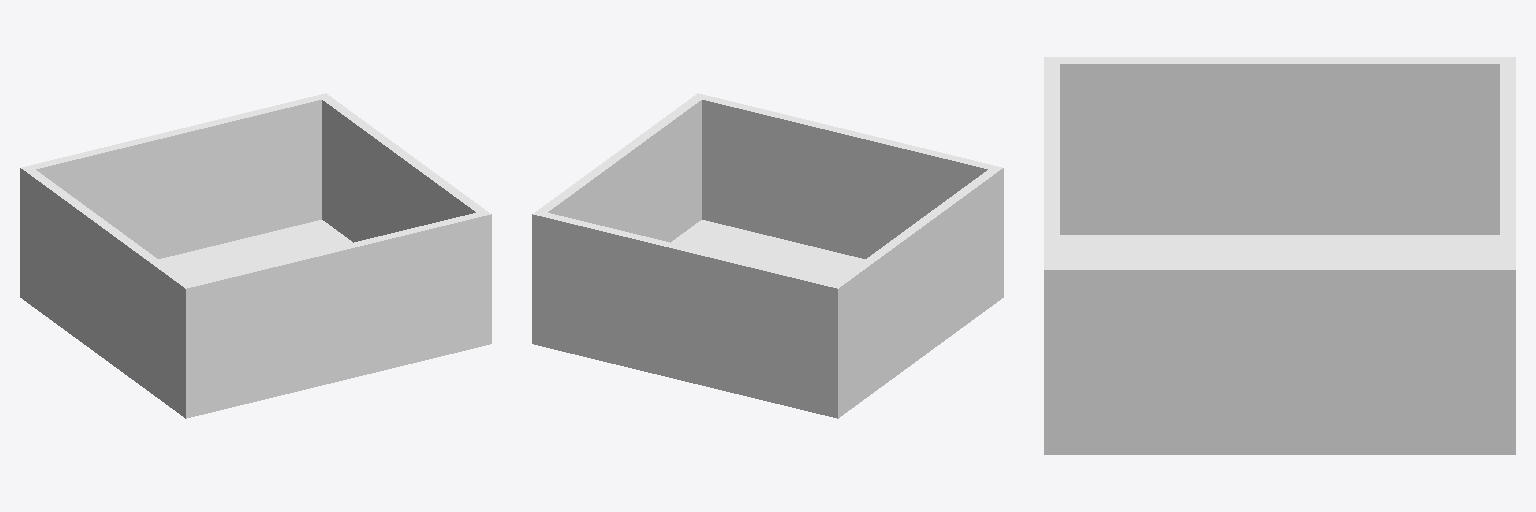
robot.urdf — custom_bin:
<?xml version='1.0' encoding='UTF-8'?>
<robot name="custom_bin">
  <link name="base_link">
    <inertial>
      <origin xyz="0.0000E+00 0.0000E+00 1.7000E-01" rpy="0.0000E+00 0.0000E+00 0.0000E+00"/>
      <mass value="1.0000E+00"/>
      <inertia ixx="9.9730E-02" ixy="-0.0000E+00" ixz="-0.0000E+00" iyy="1.0958E-01" iyz="-0.0000E+00" izz="1.8325E-01"/>
    </inertial>
    <visual>
      <origin xyz="0.0000E+00 0.0000E+00 0.0000E+00" rpy="0.0000E+00 0.0000E+00 0.0000E+00"/>
      <geometry>
        <mesh filename="2654091ea3c01b9772f0f36184b864da.stl" scale="1.0000E+00 1.0000E+00 1.0000E+00"/>
      </geometry>
      <material name="undefined">
        <color rgba="1.0000E+00 1.0000E+00 1.0000E+00 1.0000E+00"/>
      </material>
    </visual>
    <collision>
      <origin xyz="0.0000E+00 0.0000E+00 -2.5000E-02" rpy="0.0000E+00 0.0000E+00 0.0000E+00"/>
      <geometry>
        <box size="1.6000E+00 1.5000E+00 5.0000E-02"/>
      </geometry>
    </collision>
    <collision>
      <origin xyz="7.7500E-01 0.0000E+00 2.7500E-01" rpy="0.0000E+00 0.0000E+00 0.0000E+00"/>
      <geometry>
        <box size="5.0000E-02 1.5000E+00 6.5000E-01"/>
      </geometry>
    </collision>
    <collision>
      <origin xyz="-7.7500E-01 0.0000E+00 2.7500E-01" rpy="0.0000E+00 0.0000E+00 0.0000E+00"/>
      <geometry>
        <box size="5.0000E-02 1.5000E+00 6.5000E-01"/>
      </geometry>
    </collision>
    <collision>
      <origin xyz="0.0000E+00 7.2500E-01 2.7500E-01" rpy="0.0000E+00 0.0000E+00 0.0000E+00"/>
      <geometry>
        <box size="1.6000E+00 5.0000E-02 6.5000E-01"/>
      </geometry>
    </collision>
    <collision>
      <origin xyz="0.0000E+00 -7.2500E-01 2.7500E-01" rpy="0.0000E+00 0.0000E+00 0.0000E+00"/>
      <geometry>
        <box size="1.6000E+00 5.0000E-02 6.5000E-01"/>
      </geometry>
    </collision>
    <contact>
      <lateral_friction value="7.0000E-01"/>
      <rolling_friction value="1.0000E-03"/>
      <spinning_friction value="1.0000E-02"/>
      <restitution value="0.0000E+00"/>
    </contact>
  </link>
</robot>

--- Render facts (derived) ---
3 views of the same robot in one strip: view 1: azimuth 30°, elevation 25°; view 2: azimuth 150°, elevation 25°; view 3: azimuth 270°, elevation 25° (orthographic).
Model custom_bin with 1 links and 0 joints (none), rooted at base_link, posed every joint at zero.
Visible links, largest first — view 1: base_link; view 2: base_link; view 3: base_link.
Boxes of the visible links, x1=… form: base_link: x1=20, y1=93, x2=491, y2=418; base_link: x1=532, y1=93, x2=1003, y2=418; base_link: x1=1044, y1=57, x2=1515, y2=454.
Size in the robot's own frame: 1.6 by 1.5 by 0.65 metres.
Meshes: 1 distinct files referenced, 1 mesh visuals loaded (1 binary STL).
